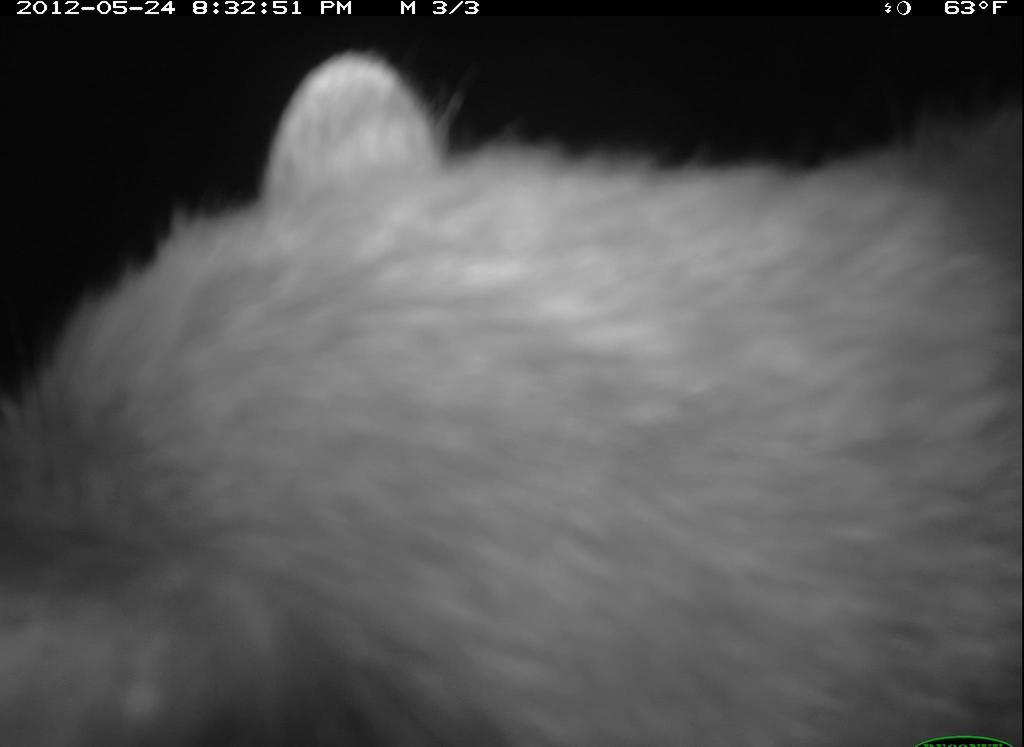raccoon: (6, 48, 1023, 739)
